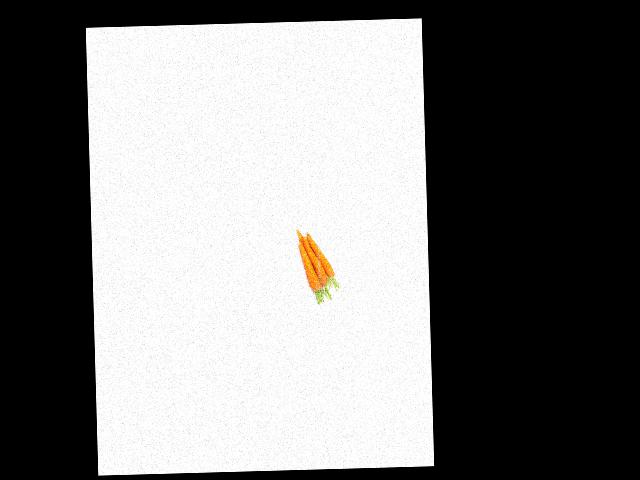carrot: (293, 236, 324, 295)
